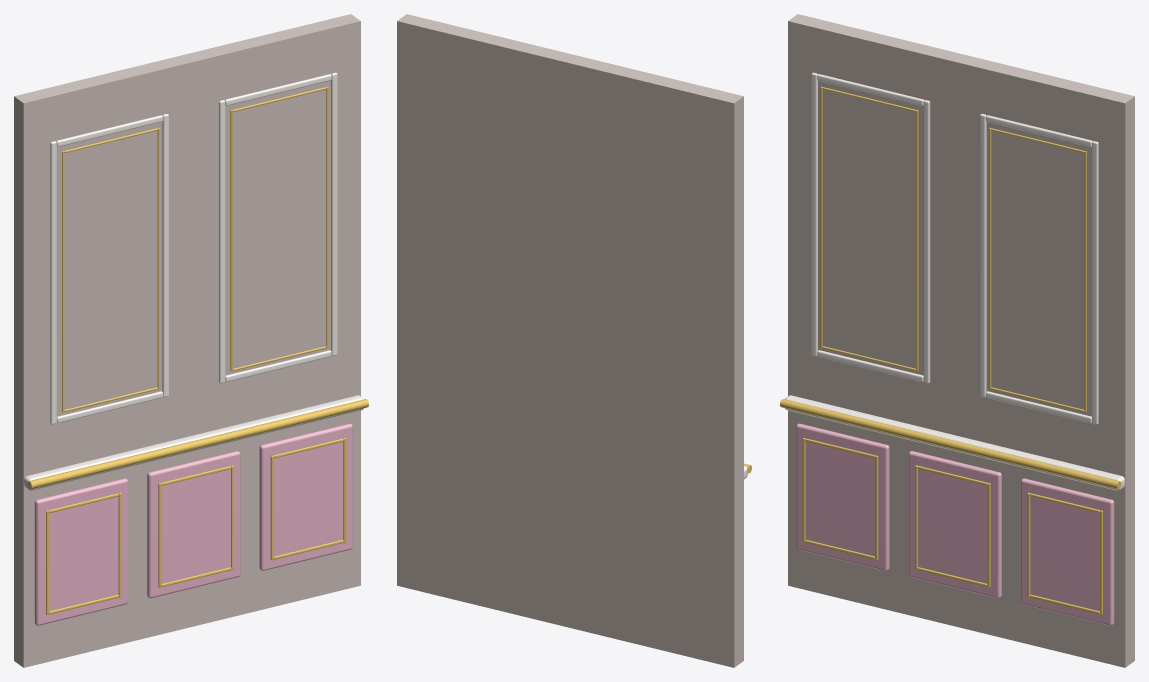
File: wall_panel.glb
3 views of the same model, side by side, from view 1: azimuth 30°, elevation 25°; view 2: azimuth 150°, elevation 25°; view 3: azimuth 330°, elevation 25° (orthographic).
Visible parts, largest first — view 1: wall_panel; view 2: wall_panel; view 3: wall_panel.
Part boxes in pixels (<box>): wall_panel: <box>14,14,368,667</box>; wall_panel: <box>397,14,751,667</box>; wall_panel: <box>780,14,1134,667</box>.
Bounding box in the file's own units: 2 × 3.2 × 0.1829.
